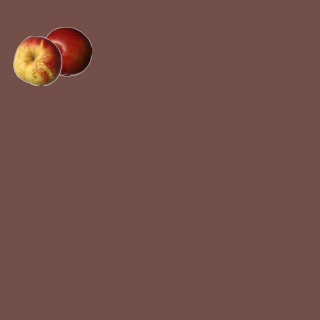Apple Braeburn: (41, 26, 91, 76)
Apple Red Yellow 1: (12, 35, 62, 85)
